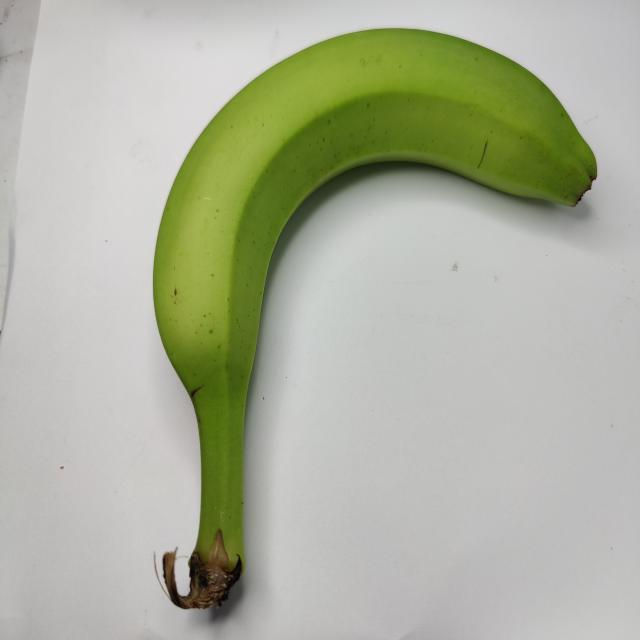raw: (112, 2, 619, 628)
